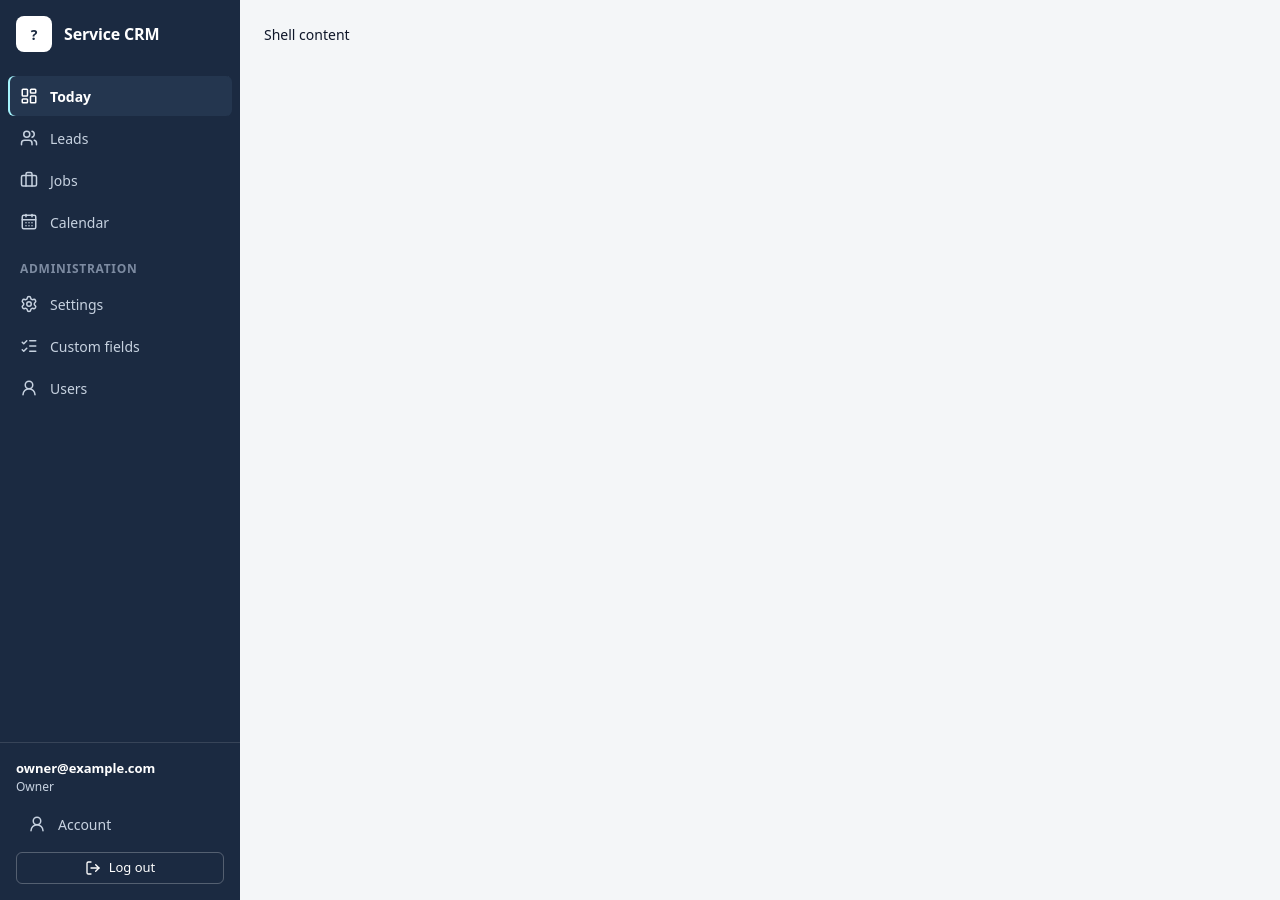
a failed logout shows an error, allows retry, and does not redirect
What coordinates should you click on to do the following:
click the button "Log out"
I would click on:
 (120, 868)
Its box is [16, 852, 224, 884].
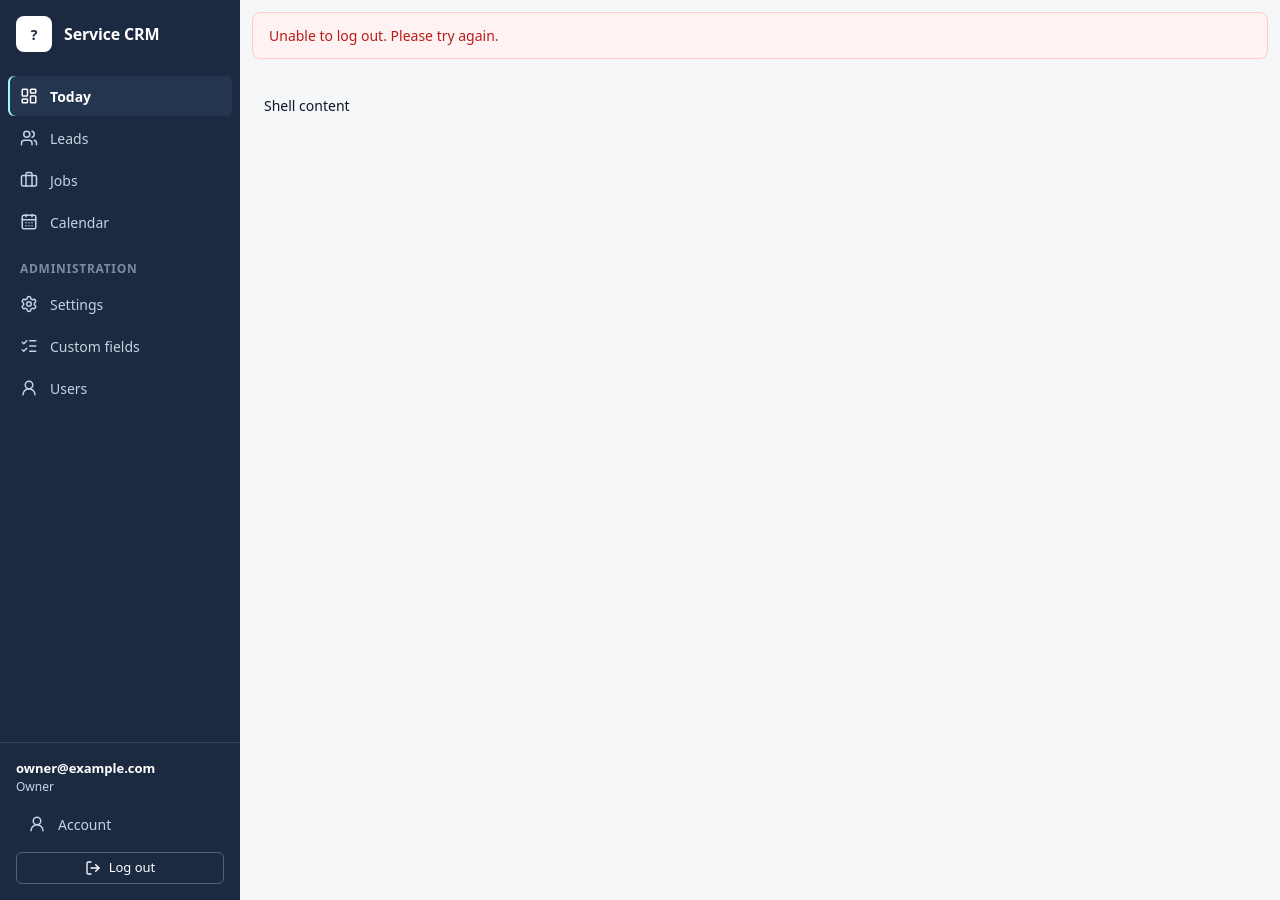
Check: the text "Shell content" is shown, box [264, 96, 350, 115]
Check: the message shows "Unable to log out", box [269, 26, 499, 45]
